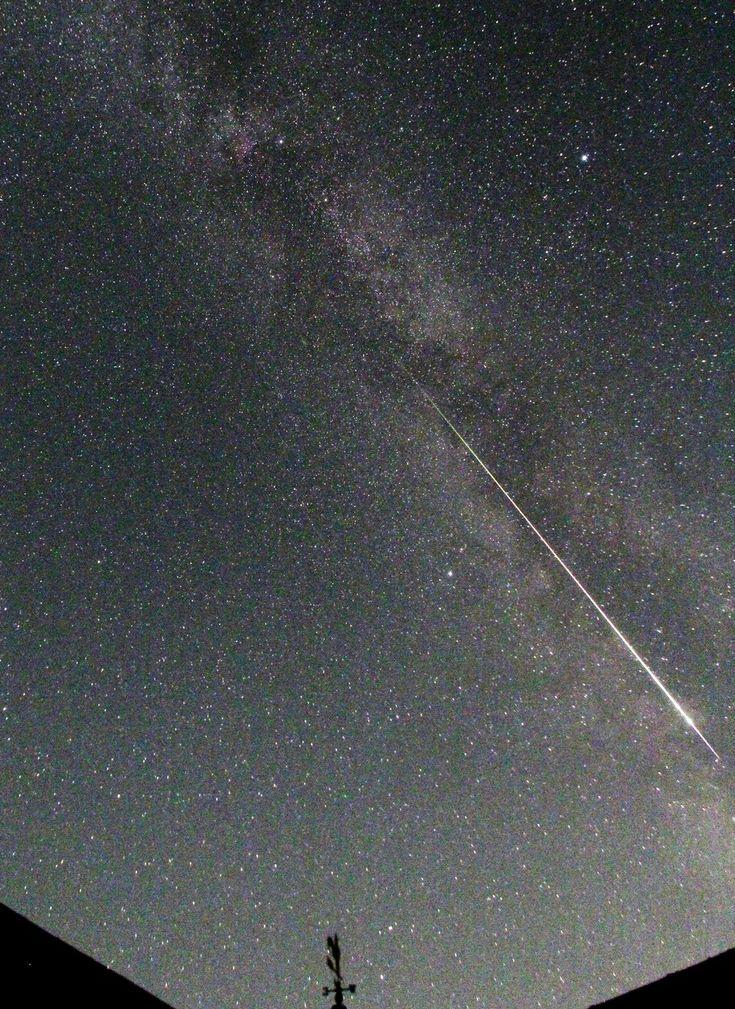meteor: (662, 696, 732, 764)
